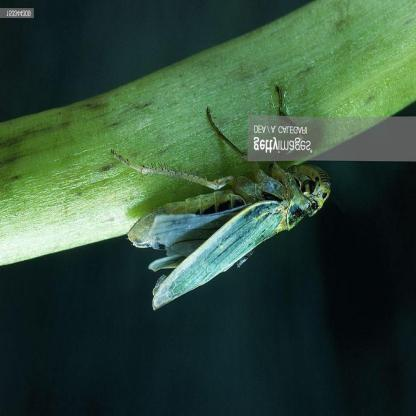green-leafhopper: (119, 150, 330, 312)
